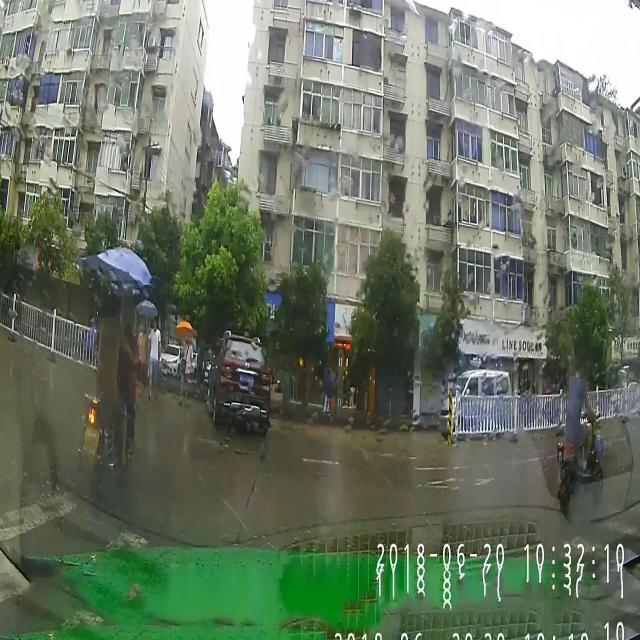car: (206, 330, 271, 432), (437, 373, 513, 431)
